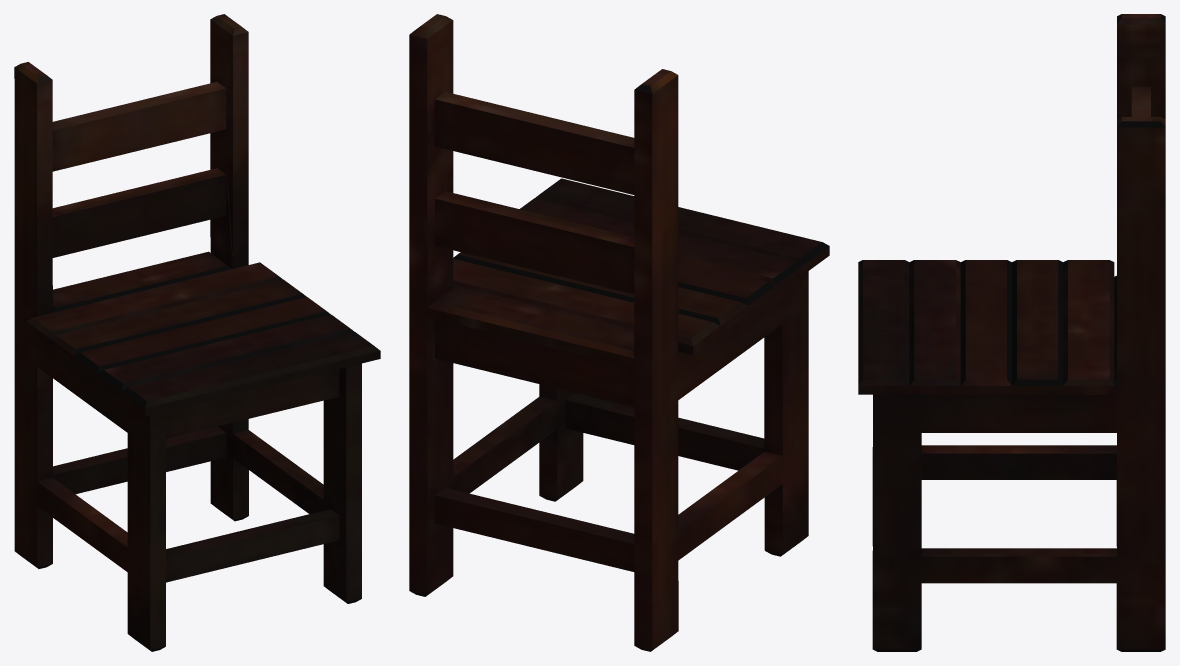
The model's file is bar ivan moro sedia 2.glb.
The picture shows the model from 3 angles, left to right: view 1: azimuth 30°, elevation 25°; view 2: azimuth 150°, elevation 25°; view 3: azimuth 270°, elevation 25°; orthographic projection. The views are drawn at different scales.
Parts seen in each view (by area): view 1: Object_30.006; view 2: Object_30.006; view 3: Object_30.006.
Boxes of the visible parts, x1=… form: Object_30.006: x1=14, y1=14, x2=380, y2=651; Object_30.006: x1=409, y1=14, x2=829, y2=651; Object_30.006: x1=858, y1=14, x2=1165, y2=651.
Size of the model in its own units: 0.4558 by 0.9116 by 0.4787.
Materials: 1 (1 with a texture image).
